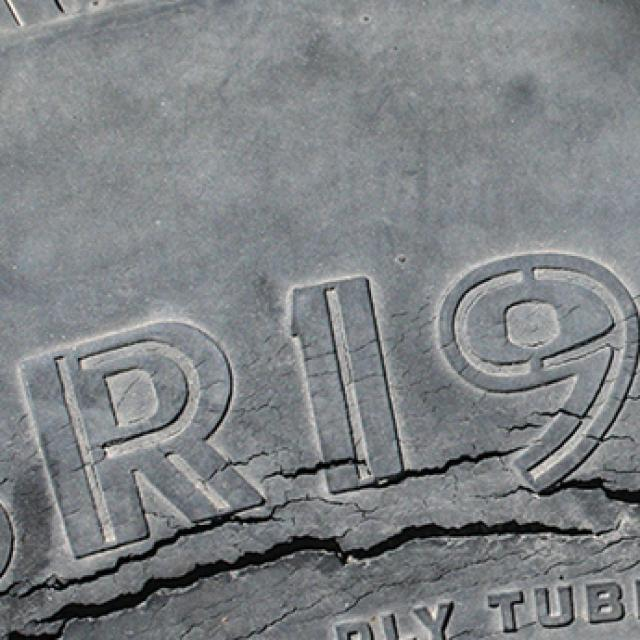Cracks: (0, 260, 638, 638)
Non-defective: (0, 0, 640, 217)
